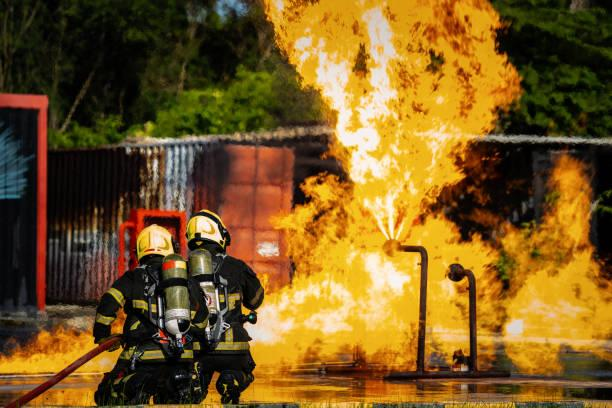Fire: (340, 19, 469, 373)
